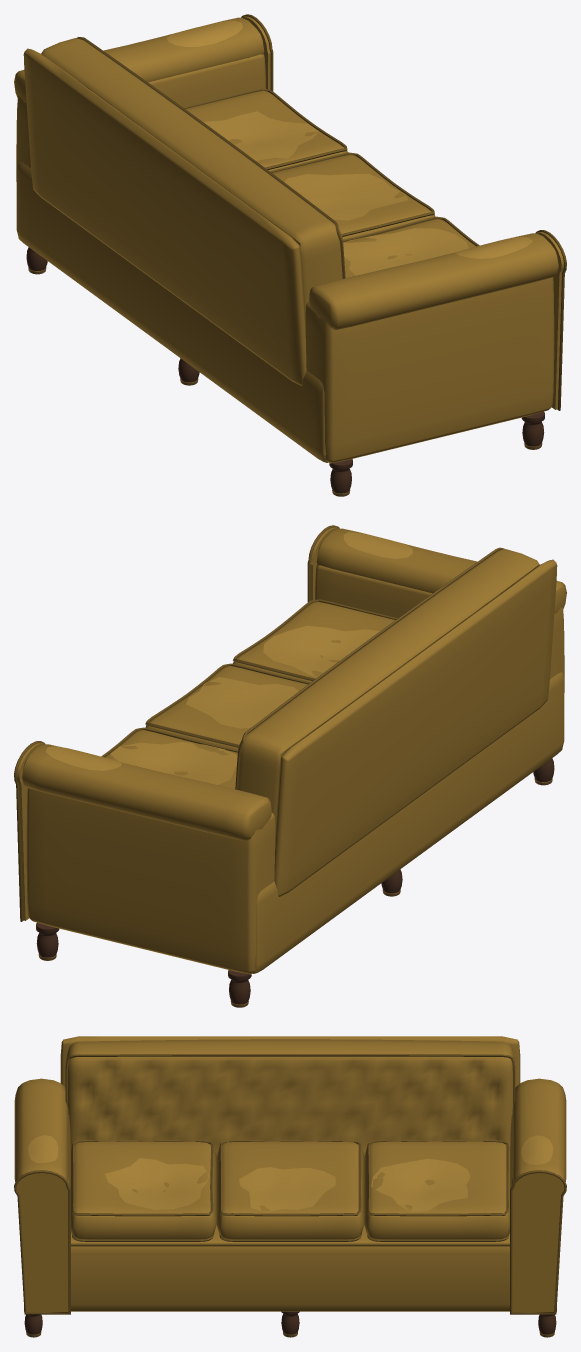
The model's file is sofa@1.glb.
3 views of the same model, one above another, from view 1: azimuth 30°, elevation 25°; view 2: azimuth 150°, elevation 25°; view 3: azimuth 270°, elevation 25° (orthographic). The views are drawn at different scales.
Parts seen in each view (by area): view 1: armlehne, ruecken_aussen, unterbau, ruecken, armlehne.001, abrieb, abrieb.001, sitzkissen.002, abrieb.002, sitzkissen.001, fuesse, arm_abrieb.001 (+7 smaller); view 2: armlehne.001, ruecken_aussen, unterbau, ruecken, armlehne, abrieb.001, abrieb.002, abrieb, sitzkissen.001, sitzkissen, fuesse, ruecken_keder (+7 smaller); view 3: ruecken, unterbau, sitzkissen.001, sitzkissen.002, sitzkissen, stirn, stirn.001, armlehne, armlehne.001, abrieb, abrieb.002, abrieb.001 (+11 smaller).
Part boxes in pixels (box(x1,y1,x2,y2)): armlehne: box(305, 233, 558, 463); ruecken_aussen: box(23, 48, 306, 385); unterbau: box(16, 161, 327, 462); ruecken: box(41, 38, 342, 311); armlehne.001: box(14, 17, 265, 181); abrieb: box(343, 228, 468, 275); abrieb.001: box(284, 173, 407, 220); sitzkissen.002: box(185, 90, 347, 170); abrieb.002: box(204, 111, 318, 166); sitzkissen.001: box(272, 154, 435, 239); fuesse: box(26, 247, 544, 493); arm_abrieb.001: box(166, 20, 242, 46); armlehne.001: box(22, 744, 275, 974); ruecken_aussen: box(274, 559, 557, 896); unterbau: box(253, 672, 564, 973); ruecken: box(238, 549, 539, 822); armlehne: box(315, 528, 566, 692); abrieb.001: box(186, 677, 298, 728); abrieb.002: box(110, 742, 237, 784); abrieb: box(263, 626, 379, 677); sitzkissen.001: box(145, 666, 307, 749); sitzkissen: box(233, 601, 395, 682); fuesse: box(36, 758, 554, 1004); ruecken_keder: box(235, 547, 504, 789); ruecken: box(65, 1039, 515, 1156); unterbau: box(71, 1225, 509, 1311); sitzkissen.001: box(216, 1141, 364, 1239); sitzkissen.002: box(364, 1141, 509, 1239); sitzkissen: box(71, 1141, 216, 1239); stirn: box(16, 1170, 68, 1311); stirn.001: box(512, 1170, 564, 1311); armlehne: box(14, 1078, 70, 1188); armlehne.001: box(510, 1078, 566, 1188); abrieb: box(105, 1158, 209, 1209); abrieb.002: box(371, 1158, 470, 1211); abrieb.001: box(239, 1167, 335, 1212).
Size of the model in its own units: 0.9421 by 0.9113 by 2.15.
